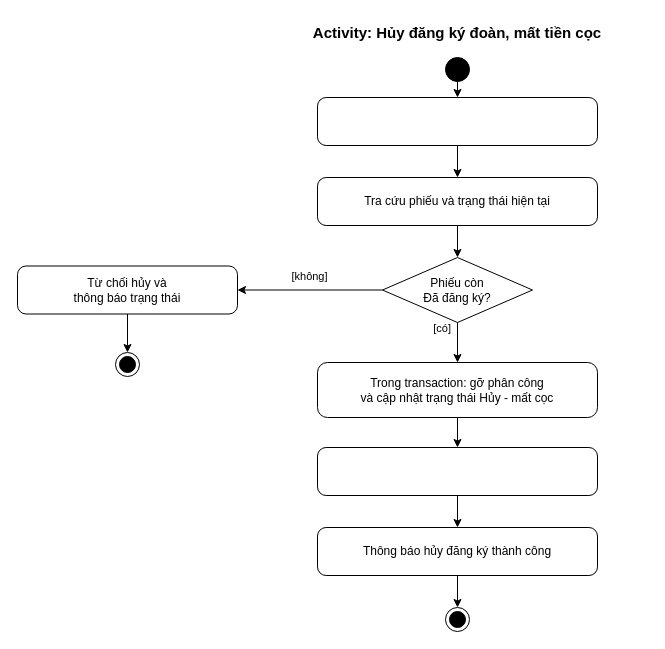
Image size: 665x649. Some labels were removed from this diagram. Here are the shapes that lost their labels. From the top down, the centre of each, then its label:
At [457,121]: "Tiếp nhận yêu cầu hủy của đoàn".
At [457,471]: "Giữ nguyên tiền cọc đã thu".
